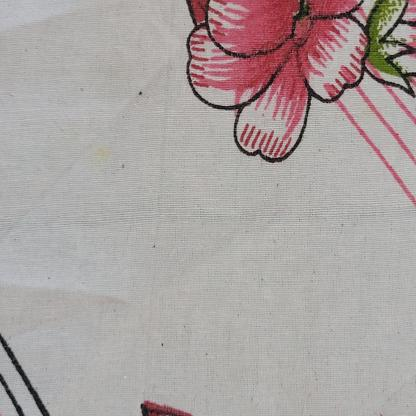spot: (85, 136, 128, 173), (136, 87, 147, 98)
